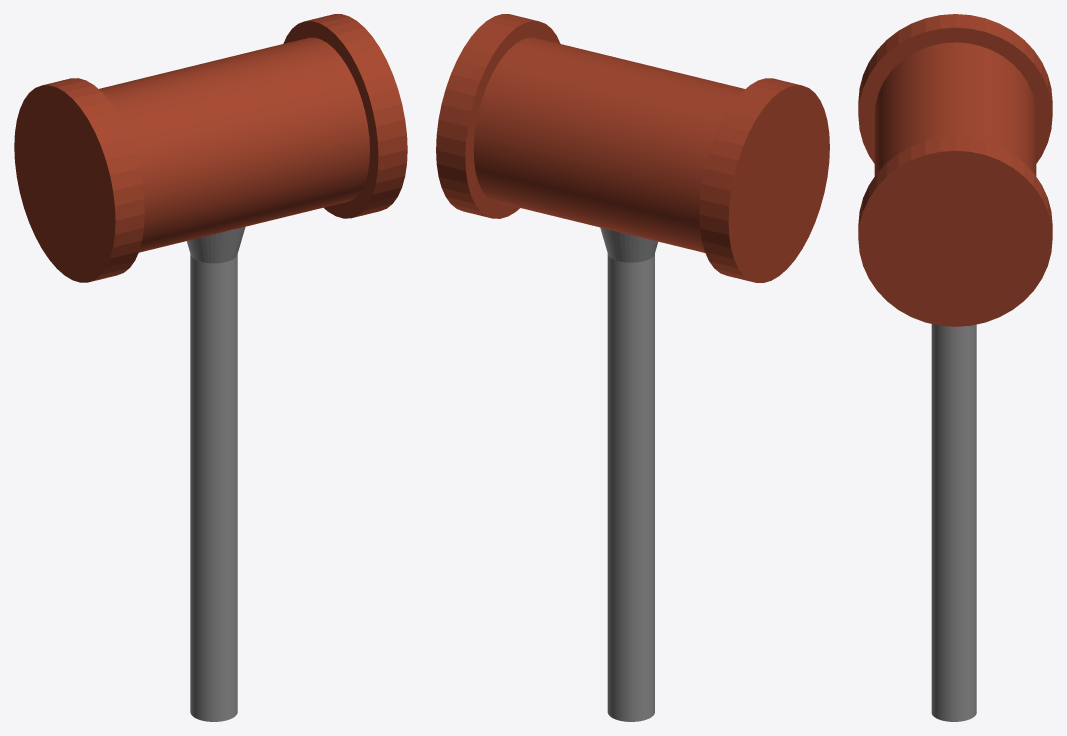
The model's file is hammer.FBX.
3 renders of one model, left to right at view 1: azimuth 30°, elevation 25°; view 2: azimuth 150°, elevation 25°; view 3: azimuth 270°, elevation 25°, orthographic. The views are drawn at different scales.
Visible parts, largest first — view 1: Cylinder002, Cylinder001; view 2: Cylinder002, Cylinder001; view 3: Cylinder002, Cylinder001.
Boxes of the visible parts, box(x1,y1,x2,y2) form: Cylinder002: box(14, 14, 407, 282); Cylinder001: box(187, 226, 245, 721); Cylinder002: box(436, 14, 829, 282); Cylinder001: box(600, 227, 657, 721); Cylinder002: box(858, 14, 1052, 326); Cylinder001: box(931, 324, 976, 721).
Size of what is drawn, in the model's own units: 39.37 by 84.41 by 23.63.
